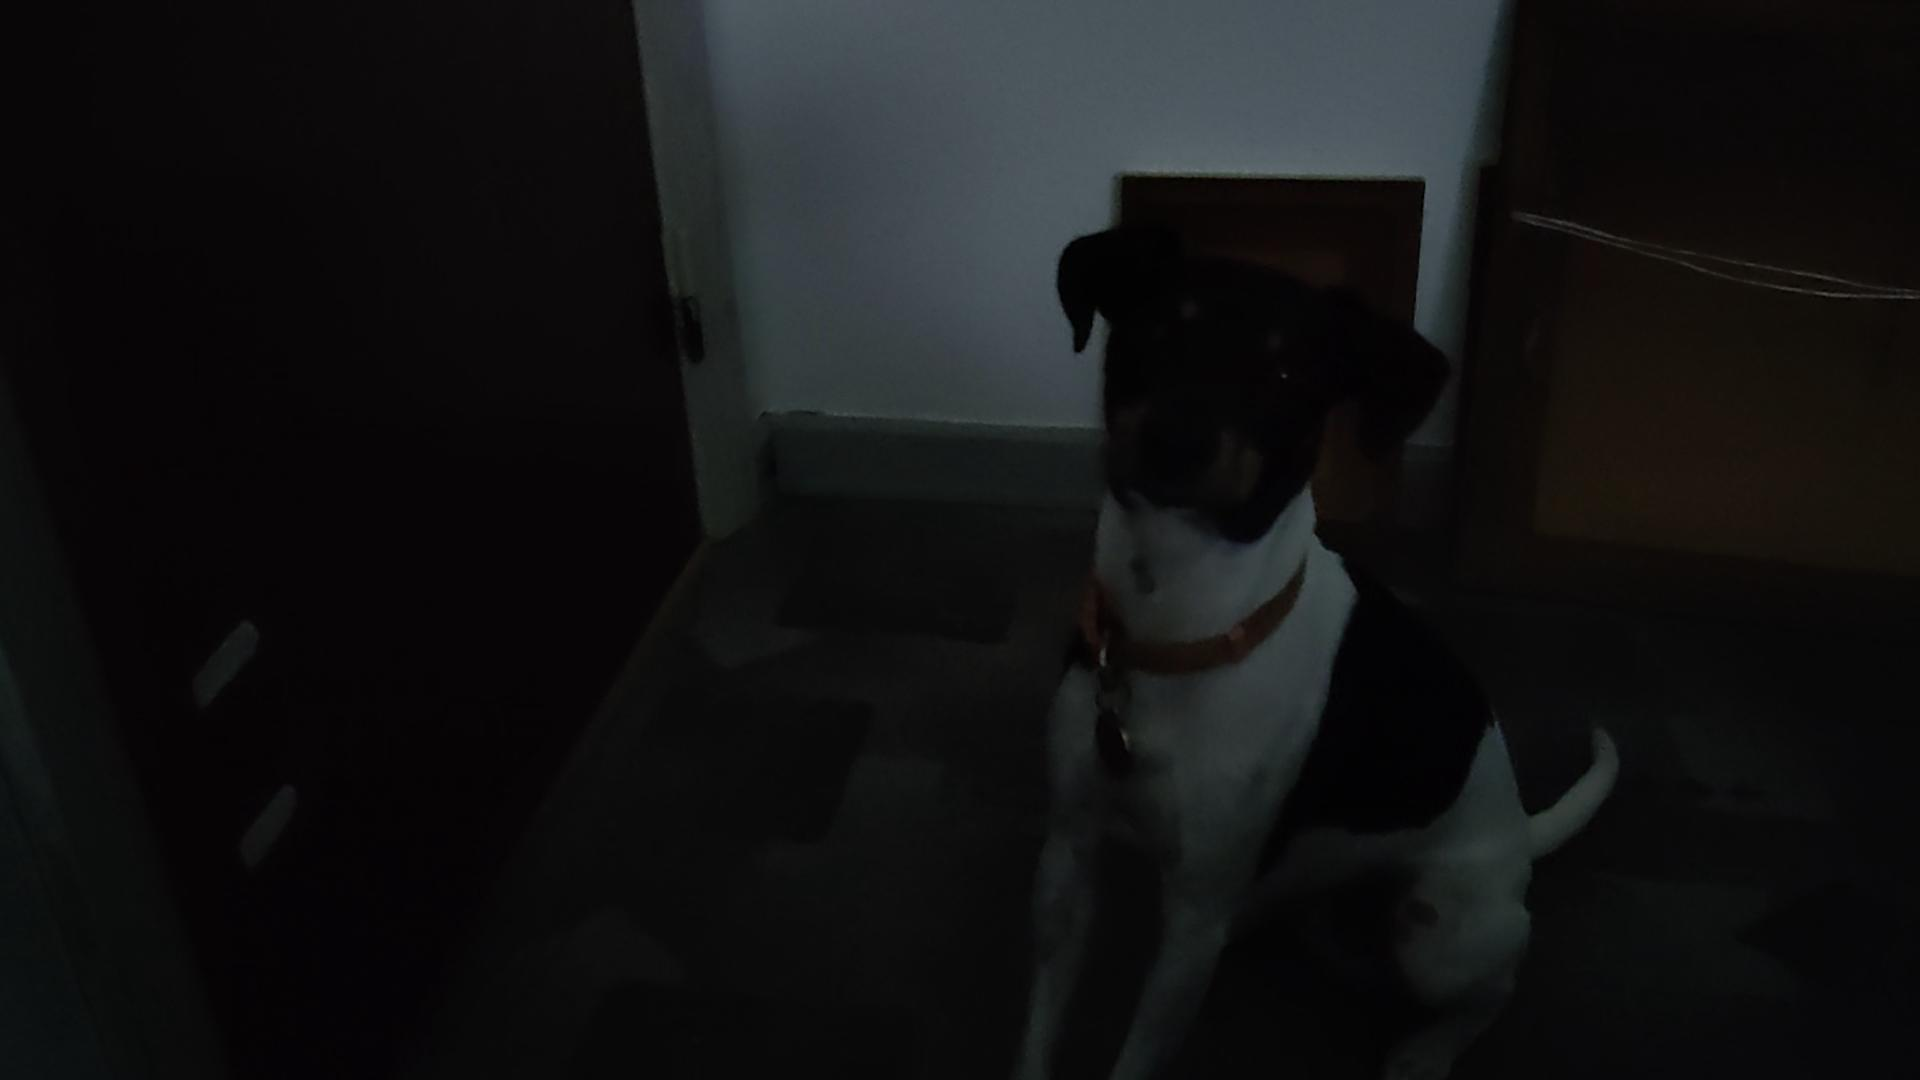Dog: (963, 202, 1635, 1079)
